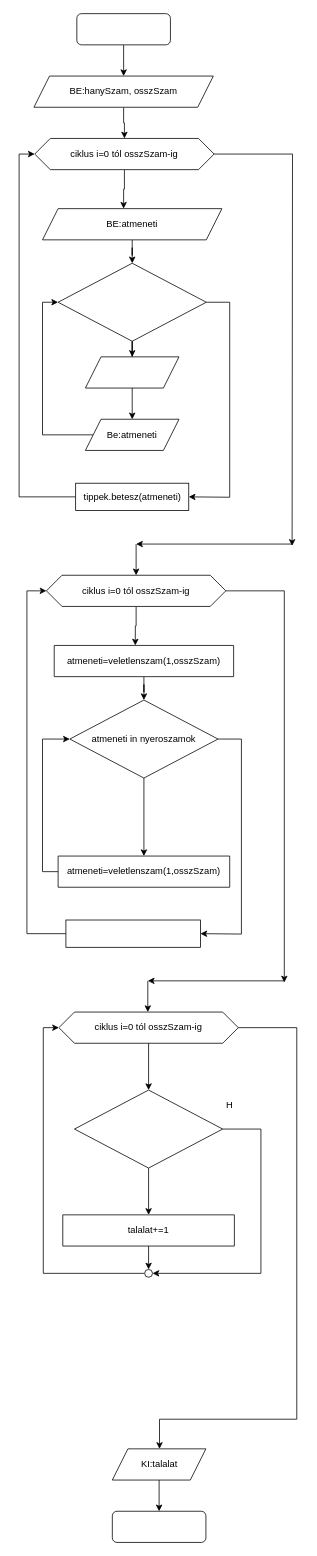
Image size: 317x1556. Some labels were removed from this diagram. Each missing label, with the centre of its shape:
atmeneti<1 or atmeneti>osszSzam or atmeneti in tippek: (x=131, y=301)
Ki: "HIBA!": (x=132, y=372)
nyeroszamok.betesz(atmeneti): (x=132, y=933)
START: (x=123, y=29)
STOP: (x=159, y=1526)
tippek[i] in nyeroszamok: (x=148, y=1128)
